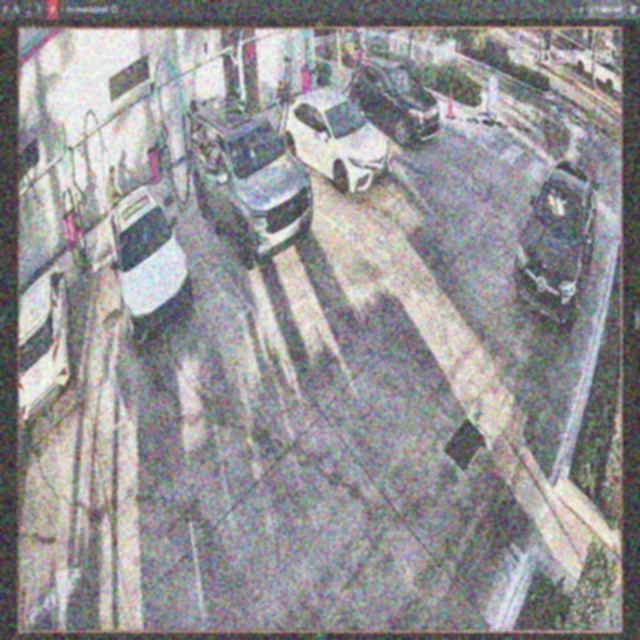Car: (192, 98, 312, 268), (107, 185, 190, 345), (277, 93, 391, 193)
